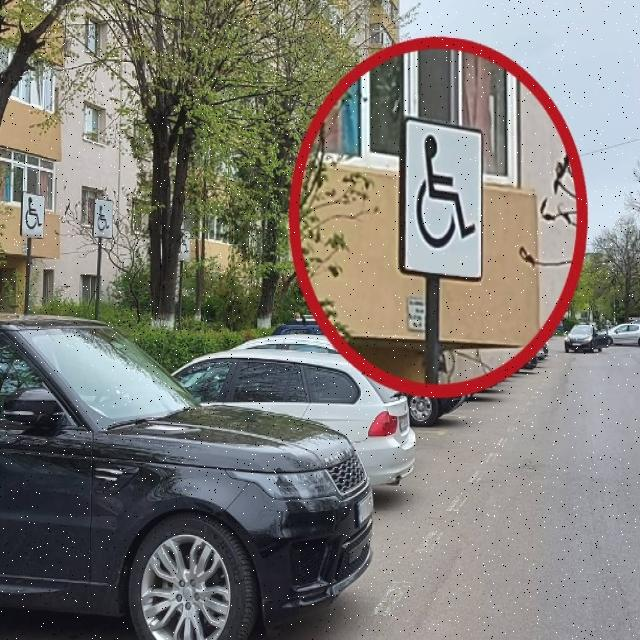symbol_of_access: (398, 116, 486, 284), (19, 189, 46, 242), (92, 192, 115, 242)
